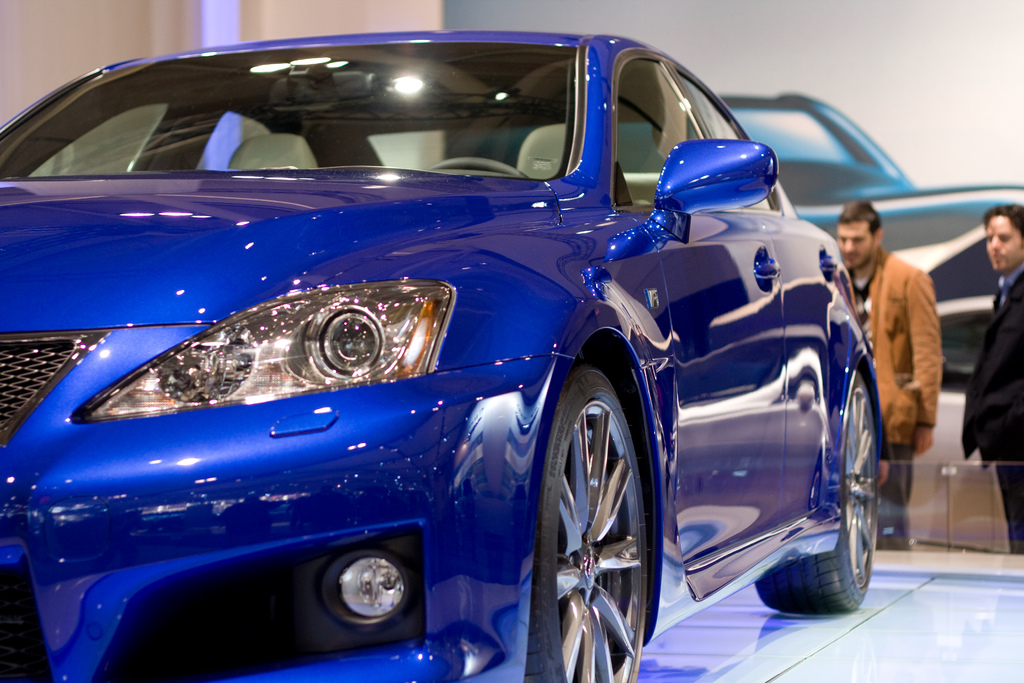Person: (836, 199, 941, 551), (961, 203, 1024, 554)
